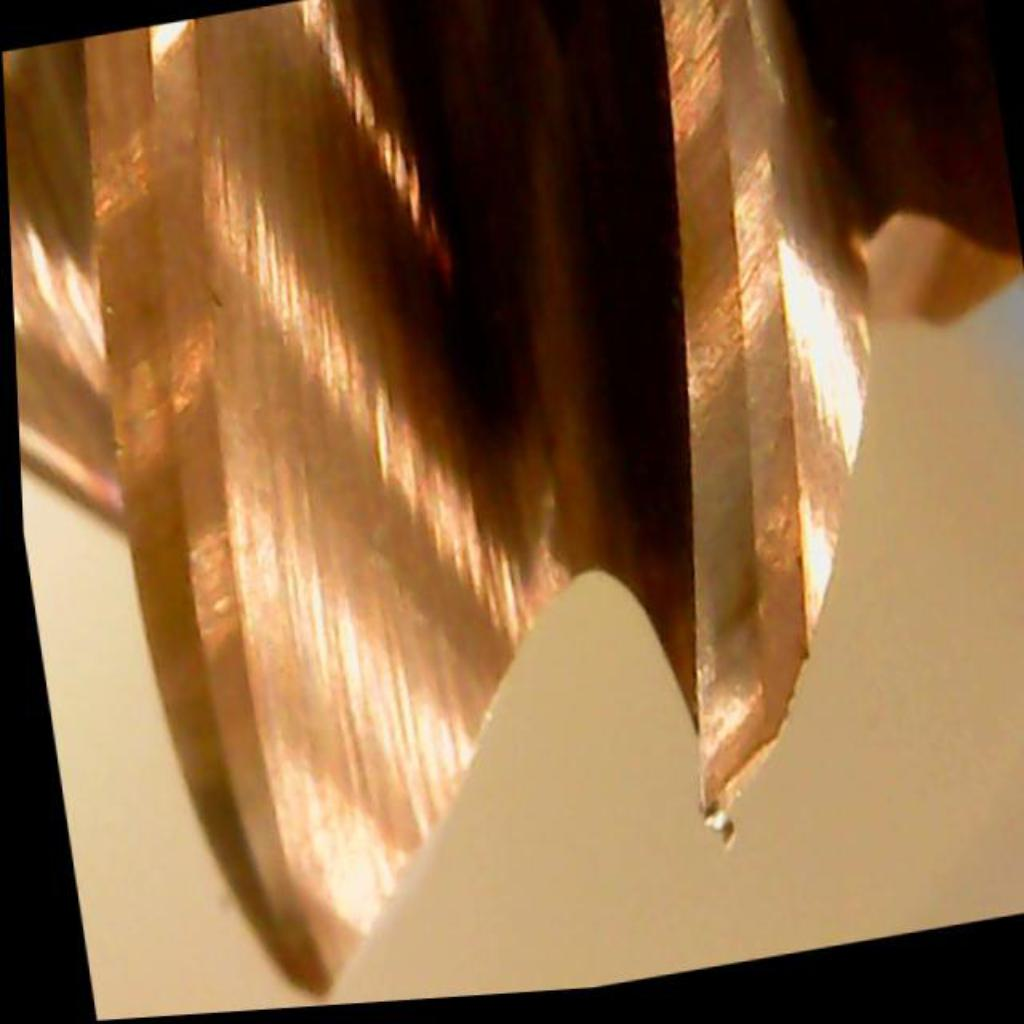Tool-wear-class-0: (591, 239, 874, 842)
